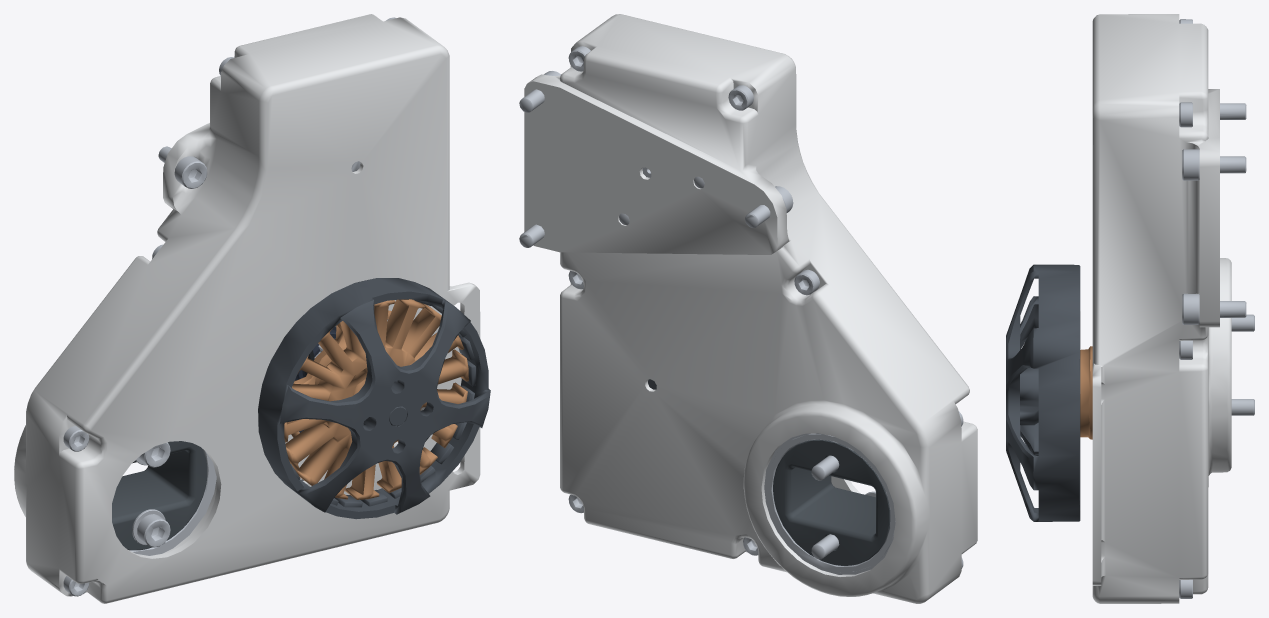
The model's file is left_hip_aa_LOD0.fbx.
The picture shows the model from 3 angles, left to right: view 1: azimuth 30°, elevation 25°; view 2: azimuth 150°, elevation 25°; view 3: azimuth 270°, elevation 25°; orthographic projection. The views are drawn at different scales.
Parts seen in each view (by area): view 1: MM_bolt_hip_aa_structure_left_side_bl_biped_528d5f4060, MM_bolt_motor_antigravity_4004_rotor_759324e72e, MM_bolt_motor_antigravity_4004_stator_6ea6cf4d07, MM_bolt_transmission_pulley_at3_t30_output_2156d226d4, MM_bolt_bearing_32_25_4_sbn_61705rs_7b952c9aca, MM_bolt_fastener_shcs_m3_8_ccd19ec43b, MM_bolt_fastener_shcs_m3_22_3cc312e21b; view 2: MM_bolt_hip_aa_structure_left_side_bl_biped_528d5f4060, MM_bolt_transmission_pulley_at3_t30_output_2156d226d4, MM_bolt_bearing_32_25_4_sbn_61705rs_ae7b110485, MM_bolt_fastener_shcs_m3_8_ccd19ec43b; view 3: MM_bolt_hip_aa_structure_left_side_bl_biped_528d5f4060, MM_bolt_motor_antigravity_4004_rotor_759324e72e, MM_bolt_motor_antigravity_4004_stator_6ea6cf4d07, MM_bolt_fastener_shcs_m3_8_fd08003bae, MM_bolt_fastener_shcs_m3_8_a4d0cd5645, MM_bolt_fastener_shcs_m3_8_ccd19ec43b, MM_bolt_fastener_shcs_m3_22_3cc312e21b, MM_bolt_fastener_shcs_m3_22_c1cb1ce551, MM_bolt_fastener_shcs_m2_5_6_201a174811.
Boxes of the visible parts, x1,y1,x2,y2 form: MM_bolt_hip_aa_structure_left_side_bl_biped_528d5f4060: (14, 14, 480, 603); MM_bolt_motor_antigravity_4004_rotor_759324e72e: (258, 278, 490, 519); MM_bolt_motor_antigravity_4004_stator_6ea6cf4d07: (284, 299, 468, 499); MM_bolt_transmission_pulley_at3_t30_output_2156d226d4: (112, 441, 207, 550); MM_bolt_bearing_32_25_4_sbn_61705rs_7b952c9aca: (129, 449, 216, 555); MM_bolt_fastener_shcs_m3_8_ccd19ec43b: (158, 146, 207, 188); MM_bolt_fastener_shcs_m3_22_3cc312e21b: (137, 514, 170, 547); MM_bolt_hip_aa_structure_left_side_bl_biped_528d5f4060: (524, 14, 977, 603); MM_bolt_transmission_pulley_at3_t30_output_2156d226d4: (773, 439, 890, 565); MM_bolt_bearing_32_25_4_sbn_61705rs_ae7b110485: (764, 433, 895, 574); MM_bolt_fastener_shcs_m3_8_ccd19ec43b: (745, 186, 793, 227); MM_bolt_hip_aa_structure_left_side_bl_biped_528d5f4060: (1092, 14, 1231, 603); MM_bolt_motor_antigravity_4004_rotor_759324e72e: (1006, 264, 1080, 521); MM_bolt_motor_antigravity_4004_stator_6ea6cf4d07: (1080, 346, 1092, 439); MM_bolt_fastener_shcs_m3_8_fd08003bae: (1182, 149, 1246, 180); MM_bolt_fastener_shcs_m3_8_a4d0cd5645: (1182, 293, 1246, 324); MM_bolt_fastener_shcs_m3_8_ccd19ec43b: (1220, 103, 1246, 119); MM_bolt_fastener_shcs_m3_22_3cc312e21b: (1231, 399, 1254, 415); MM_bolt_fastener_shcs_m3_22_c1cb1ce551: (1231, 314, 1254, 331); MM_bolt_fastener_shcs_m2_5_6_201a174811: (1179, 102, 1192, 127).
Size of the model in its own units: 0.0844 by 0.0957 by 0.0429.
